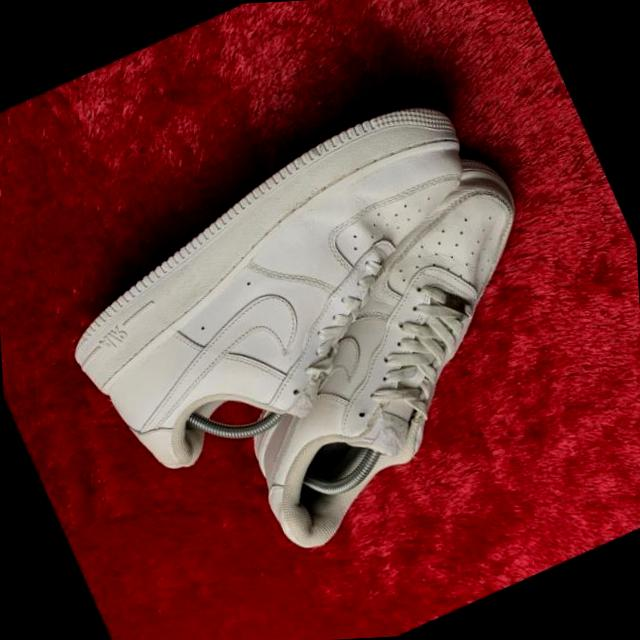nike_fake_airforce: (15, 76, 546, 495), (166, 145, 621, 561)
